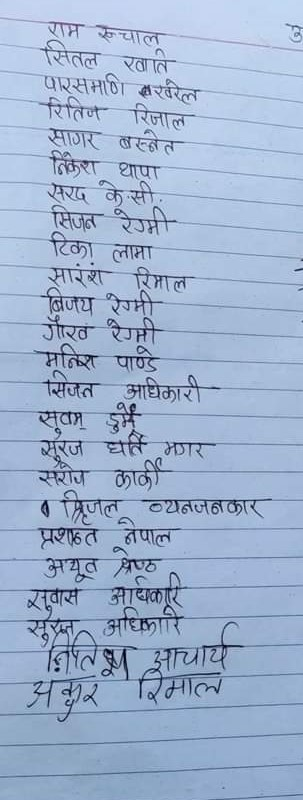text: (25, 674, 101, 725), (137, 668, 225, 708), (45, 635, 128, 674), (150, 633, 236, 670), (100, 603, 183, 638), (145, 496, 264, 519), (108, 571, 182, 605), (122, 372, 204, 402), (59, 488, 120, 526), (42, 70, 127, 96), (41, 39, 100, 71), (26, 585, 81, 617), (113, 459, 167, 491), (96, 178, 155, 207), (113, 206, 173, 234), (45, 368, 97, 400), (117, 128, 177, 155), (42, 556, 102, 583), (95, 23, 162, 47), (48, 229, 98, 261), (130, 101, 189, 128), (46, 95, 102, 123), (43, 286, 95, 316), (105, 315, 157, 345), (121, 517, 173, 547), (49, 148, 99, 179), (36, 525, 100, 549), (39, 343, 97, 369), (36, 408, 86, 437), (120, 47, 173, 74), (133, 265, 188, 291), (47, 262, 105, 286), (112, 546, 160, 575), (49, 205, 100, 232), (40, 315, 90, 342), (113, 345, 159, 374), (37, 463, 88, 489), (105, 288, 154, 315), (153, 77, 200, 105), (45, 124, 99, 148), (45, 180, 91, 204), (104, 432, 145, 458), (38, 439, 85, 461), (105, 402, 137, 434), (111, 242, 154, 264), (26, 617, 75, 636), (116, 160, 161, 179), (163, 441, 206, 458), (47, 20, 82, 38)
